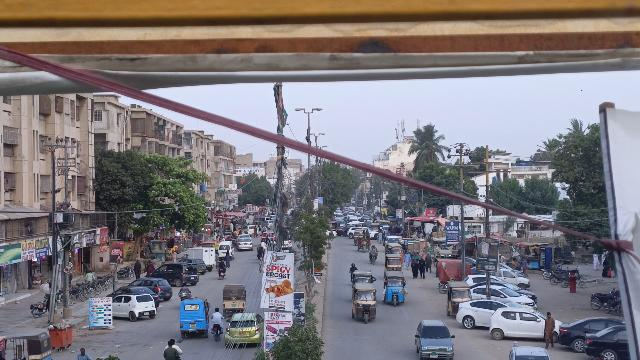Bike: (160, 338, 184, 360), (210, 306, 224, 342)
Car: (455, 298, 523, 331), (556, 312, 611, 351), (489, 304, 545, 341), (415, 318, 455, 360), (583, 321, 628, 357), (113, 292, 158, 324), (224, 313, 264, 348), (155, 260, 200, 288), (133, 276, 173, 301), (490, 287, 533, 307)
Person: (541, 309, 557, 348), (409, 256, 420, 280), (418, 255, 428, 278), (75, 347, 90, 360)
Rickshaw: (178, 297, 210, 340), (350, 281, 378, 325), (444, 280, 470, 319), (382, 270, 406, 308), (221, 283, 248, 313), (383, 253, 403, 270)
Truck: (183, 245, 217, 270)
